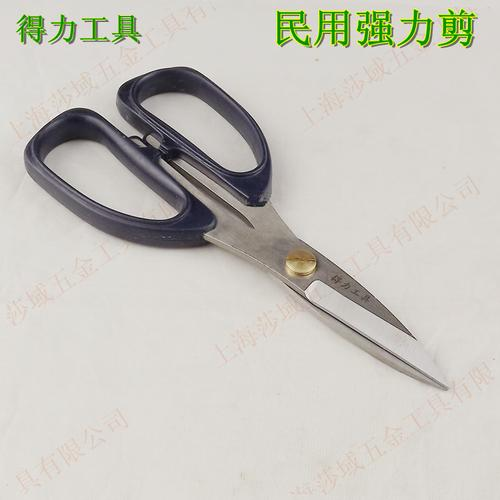scissor: (26, 65, 452, 393)
